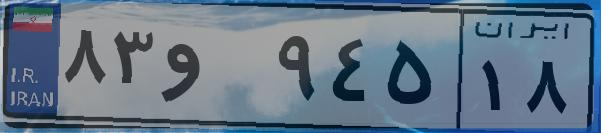1: (475, 38, 525, 113)
3: (110, 28, 158, 98)
4: (330, 28, 385, 110)
5: (385, 28, 445, 110)
8: (57, 26, 110, 100), (525, 38, 570, 115)
9: (270, 28, 330, 110)
و: (158, 20, 270, 120)
